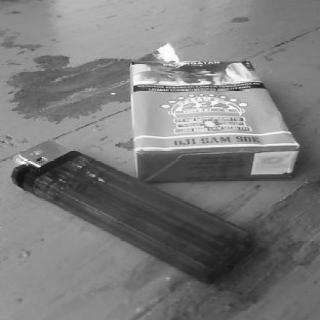objects: (130, 60, 300, 182)
